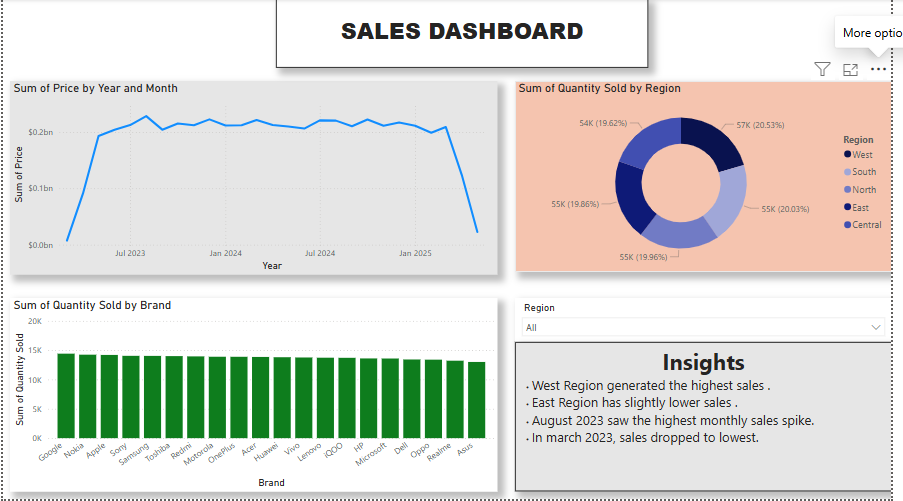

What the dashboard file says about the page in this screenshot:
{"tool":"powerbi","page":{"name":"Page 1","canvas":[1280,720],"ordinal":0},"visuals":[{"type":"lineChart","fields":{"Y":["Sum(mobile_sales_data.Price)"],"Category":["mobile_sales_data.Dispatch Date.Variation.Date Hierarchy.Year","mobile_sales_data.Dispatch Date.Variation.Date Hierarchy.Month"]},"box":[10.1,117.6,702.2,278.8],"z":0},{"type":"donutChart","fields":{"Y":["Sum(mobile_sales_data.Quantity Sold)"],"Category":["mobile_sales_data.Region"]},"box":[737.4,117.6,542.6,275.5],"z":1},{"type":"columnChart","fields":{"Category":["mobile_sales_data.Brand"],"Y":["Sum(mobile_sales_data.Quantity Sold)"]},"box":[10.1,430,702.2,278.8],"z":2},{"type":"slicer","fields":{"Values":["mobile_sales_data.Region"]},"box":[737.3,430.6,542.9,63.4],"z":3},{"type":"textbox","box":[393.1,0,535.9,99.1],"z":4},{"type":"textbox","box":[737,494,543,215],"z":5}]}

Visuals, with their boxes on the page's 1280x720 design canvas (x1, y1, x2, y2). These are canvas units, not pixel positions in the 903x501 screenshot, which may show the page scaled, cropped or inside an application window:
lineChart - Sum(mobile_sales_data.Price) x mobile_sales_data.Dispatch Date.Variation.Date Hierarchy.Year: 10 118 712 396
donutChart - Sum(mobile_sales_data.Quantity Sold) x mobile_sales_data.Region: 737 118 1280 393
columnChart - mobile_sales_data.Brand x Sum(mobile_sales_data.Quantity Sold): 10 430 712 709
slicer - mobile_sales_data.Region: 737 431 1280 494
textbox: 393 0 929 99
textbox: 737 494 1280 709
